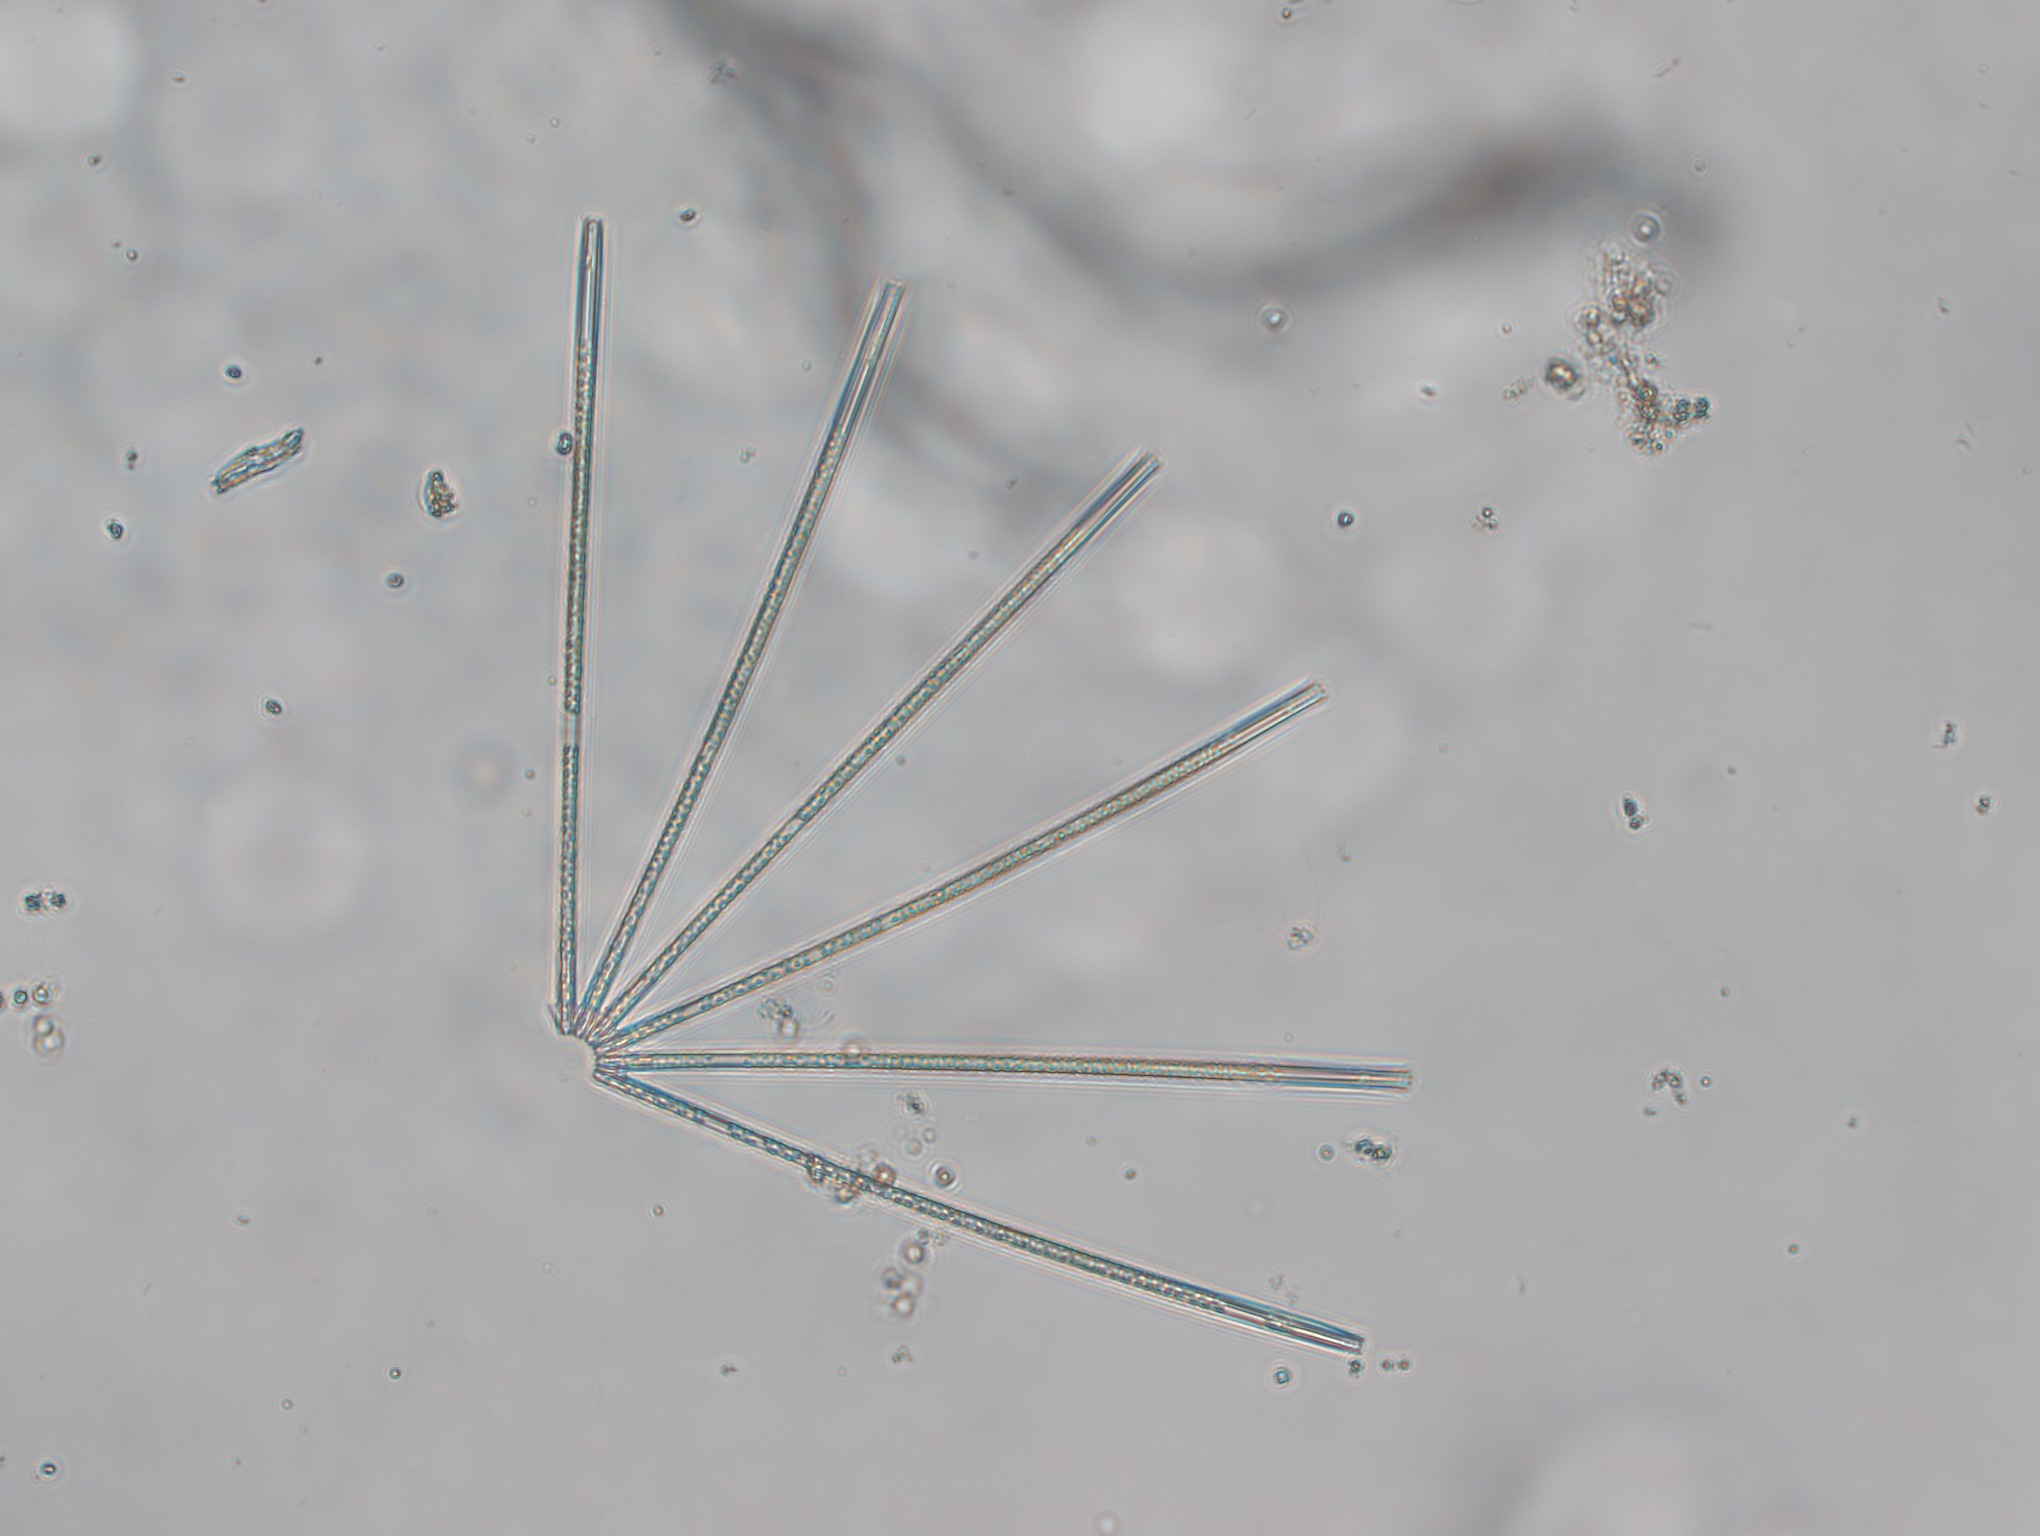thalassionema frauenfeldii: (552, 210, 1414, 1350)
